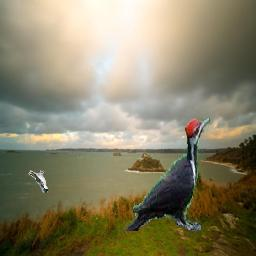Swallow: (28, 171, 48, 194)
Woodpecker: (122, 117, 210, 232)
